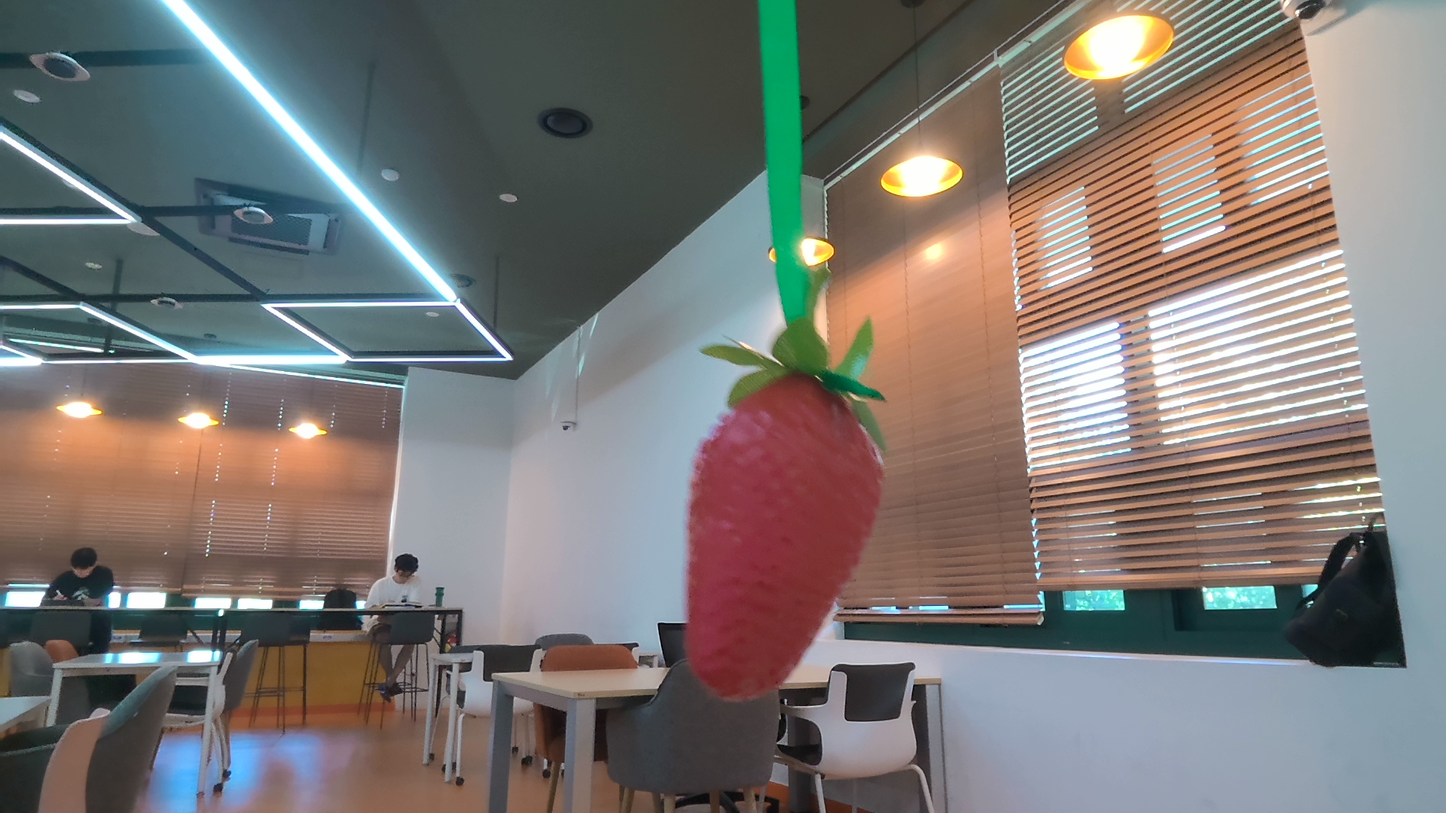strawberry: (667, 364, 892, 700)
